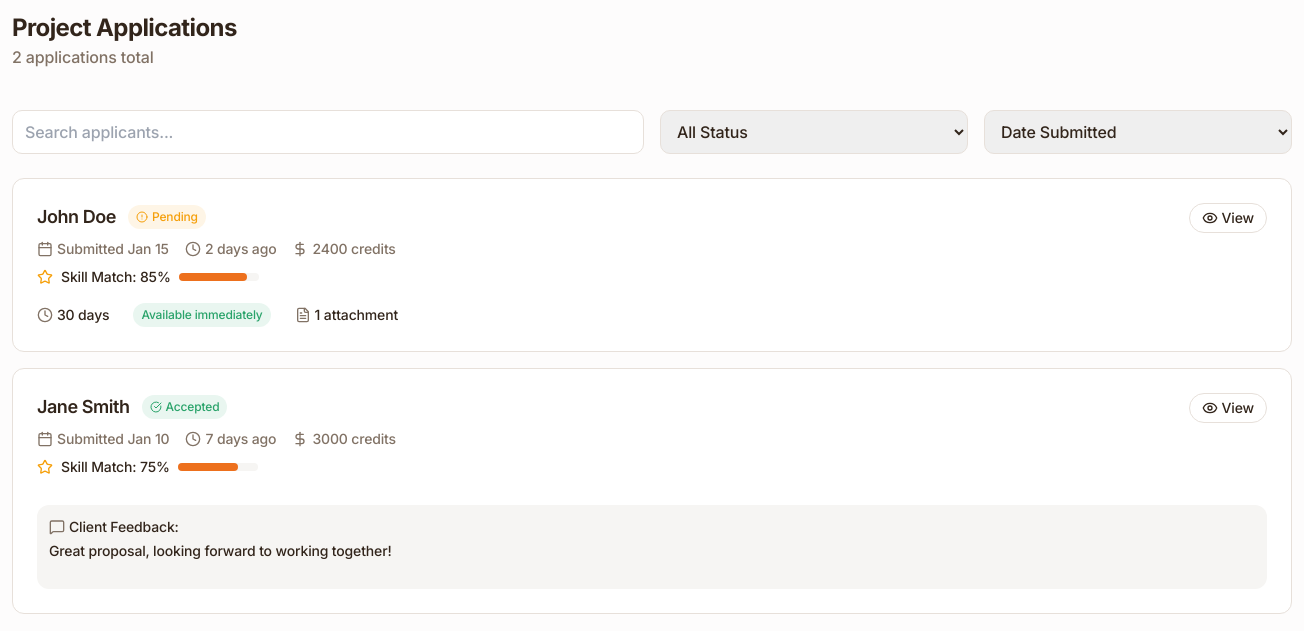
it: ApplicationsView › Filtering and Sorting › filters applications by status
The image size is (1304, 631).
Select "Accepted" in the 1st dropdown showing "All Status" at (814, 132), box [660, 110, 968, 154]
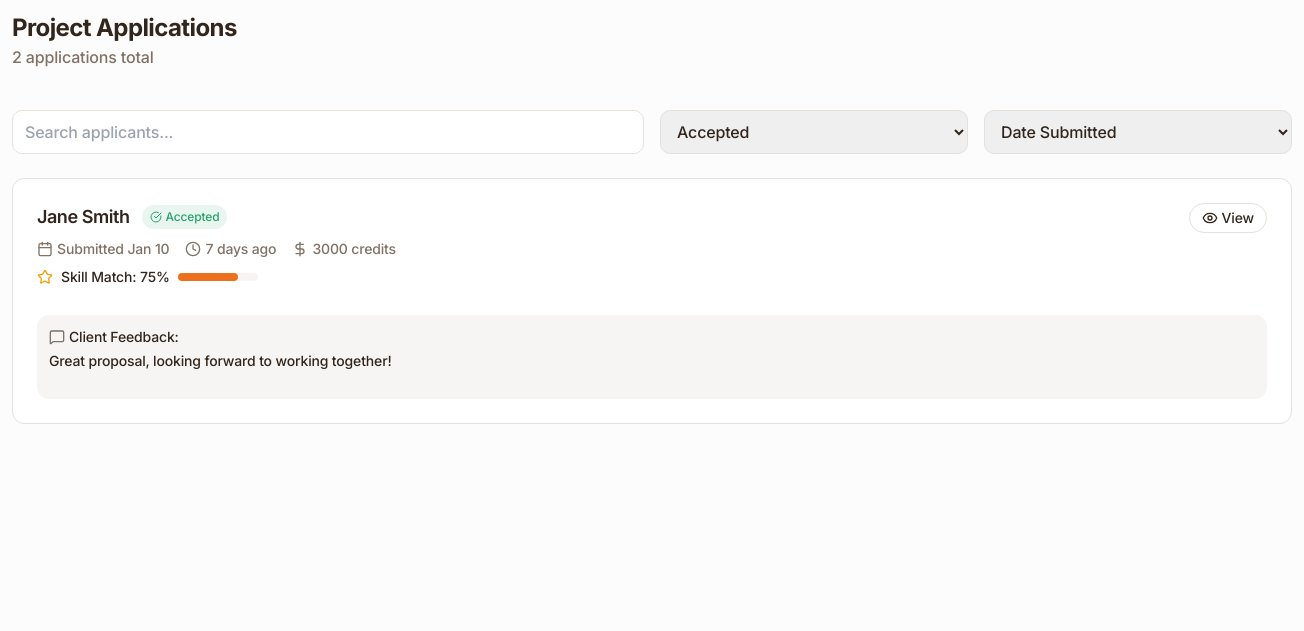
Expected: the heading "Jane Smith" is shown, [37, 203, 130, 231]
Expected: the heading "John Doe" is gone
